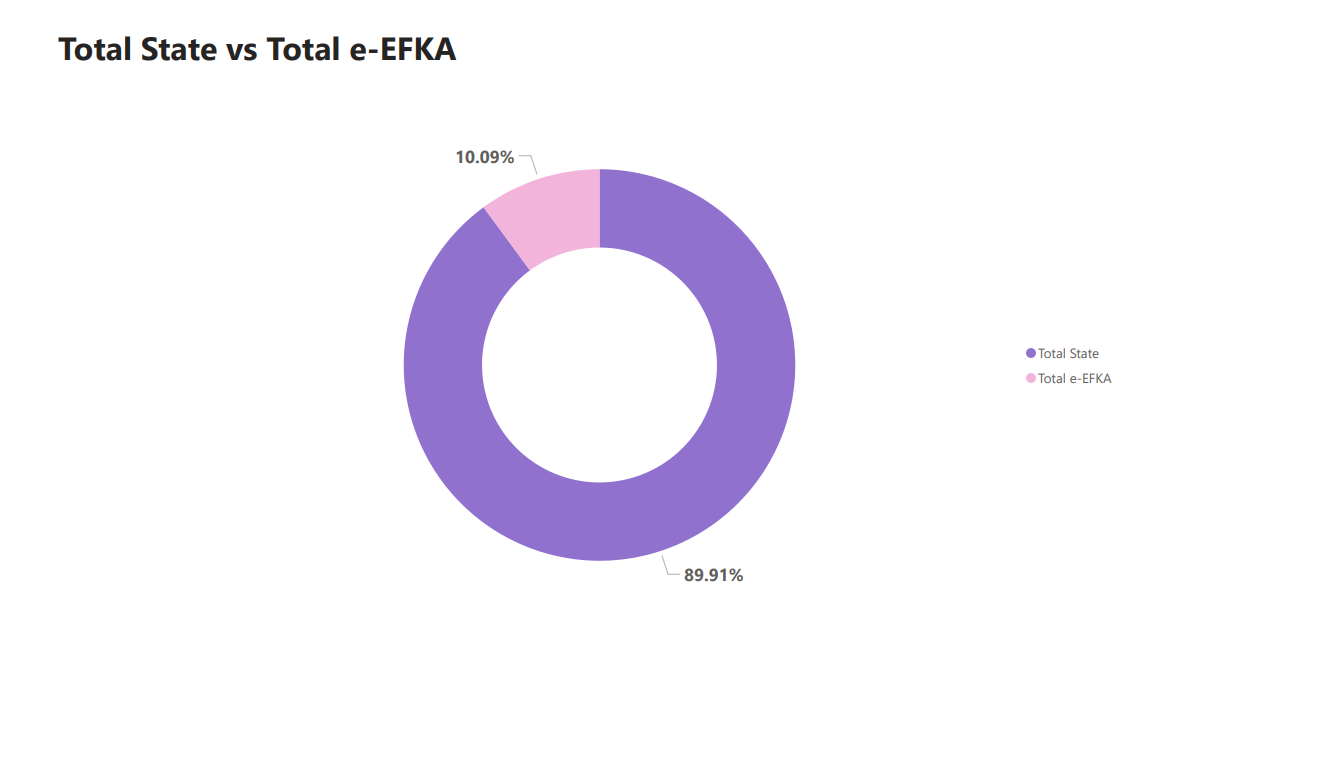

What the dashboard file says about the page in this screenshot:
{"tool":"powerbi","page":{"name":"Total State vs Total e-EFKA","canvas":[1280,720],"ordinal":2},"visuals":[{"type":"donutChart","fields":{"Y":["Sum(gr-public-debt.Total State.1)","Sum(gr-public-debt.Total e-EFKA.1)","Sum(gr-public-debt.Basic Customs debt.1)"]},"box":[149,80,957,530],"z":0},{"type":"textbox","box":[32.8,0,647,60.7],"z":1000}]}

Visuals, with their boxes in screenshot pixels (x1, y1, x2, y2), scaled from the page's 1280x720 canvas onto the 1320x760 screenshot:
donutChart - Sum(gr-public-debt.Total State.1) x Sum(gr-public-debt.Total e-EFKA.1): [154,84,1141,644]
textbox: [34,0,701,64]
